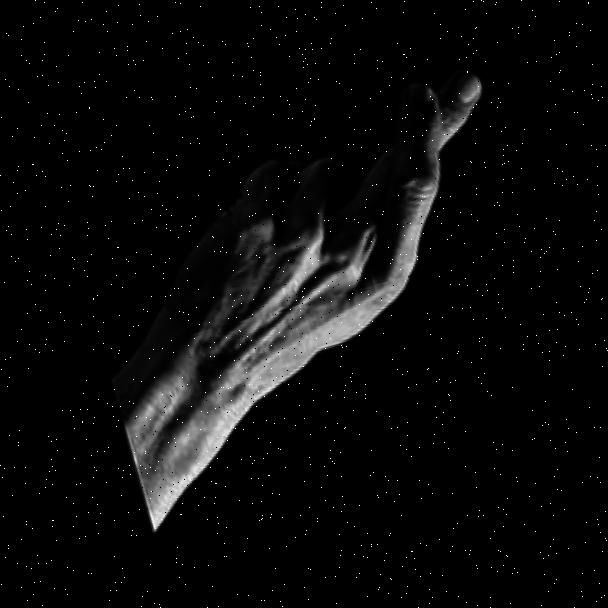five: (93, 60, 557, 410)
